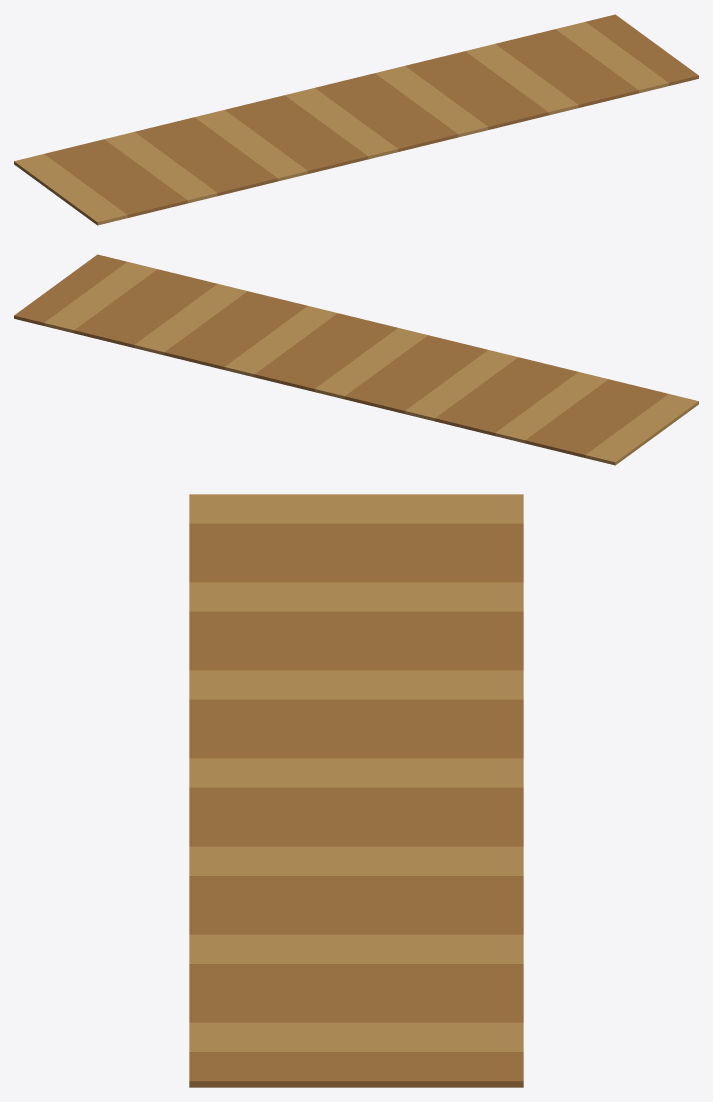
Rendered from floor.glb.
The picture shows the model from 3 angles, top to bottom: view 1: azimuth 30°, elevation 25°; view 2: azimuth 150°, elevation 25°; view 3: azimuth 270°, elevation 25°; orthographic projection. The views are drawn at different scales.
Parts seen in each view (by area): view 1: plank-0, plank-2, plank-3, plank-13, plank-9, plank-10, plank-17, plank-1, plank-4, plank-8, plank-14, plank-16 (+8 smaller); view 2: plank-0, plank-2, plank-3, plank-13, plank-9, plank-10, plank-17, plank-1, plank-4, plank-8, plank-14, plank-16 (+8 smaller); view 3: plank-19, plank-0, plank-1, plank-2, plank-3, plank-4, plank-5, plank-6, plank-7, plank-8, plank-9, plank-10 (+8 smaller).
Part boxes in pixels (left/top/right/bottom): plank-0: left=14, top=154, right=127, bottom=225; plank-2: left=74, top=139, right=187, bottom=210; plank-3: left=104, top=132, right=217, bottom=203; plank-13: left=405, top=58, right=518, bottom=129; plank-9: left=285, top=88, right=398, bottom=159; plank-10: left=315, top=80, right=428, bottom=151; plank-17: left=525, top=29, right=638, bottom=100; plank-1: left=44, top=146, right=157, bottom=217; plank-4: left=134, top=124, right=247, bottom=195; plank-8: left=255, top=95, right=368, bottom=166; plank-14: left=435, top=51, right=548, bottom=122; plank-16: left=495, top=36, right=608, bottom=107; plank-0: left=585, top=394, right=698, bottom=465; plank-2: left=525, top=379, right=638, bottom=450; plank-3: left=495, top=372, right=608, bottom=443; plank-13: left=194, top=298, right=307, bottom=369; plank-9: left=314, top=328, right=427, bottom=399; plank-10: left=284, top=320, right=397, bottom=391; plank-17: left=74, top=269, right=187, bottom=340; plank-1: left=555, top=386, right=668, bottom=457; plank-4: left=465, top=364, right=578, bottom=435; plank-8: left=344, top=335, right=457, bottom=406; plank-14: left=164, top=291, right=277, bottom=362; plank-16: left=104, top=276, right=217, bottom=347; plank-19: left=189, top=1052, right=523, bottom=1087; plank-0: left=189, top=494, right=523, bottom=523; plank-1: left=189, top=523, right=523, bottom=552; plank-2: left=189, top=553, right=523, bottom=582; plank-3: left=189, top=582, right=523, bottom=611; plank-4: left=189, top=611, right=523, bottom=640; plank-5: left=189, top=641, right=523, bottom=670; plank-6: left=189, top=670, right=523, bottom=699; plank-7: left=189, top=699, right=523, bottom=728; plank-8: left=189, top=729, right=523, bottom=758; plank-9: left=189, top=758, right=523, bottom=787; plank-10: left=189, top=787, right=523, bottom=816.
Bounding box in the file's own units: 15.8 × 0.08 × 3.8.
